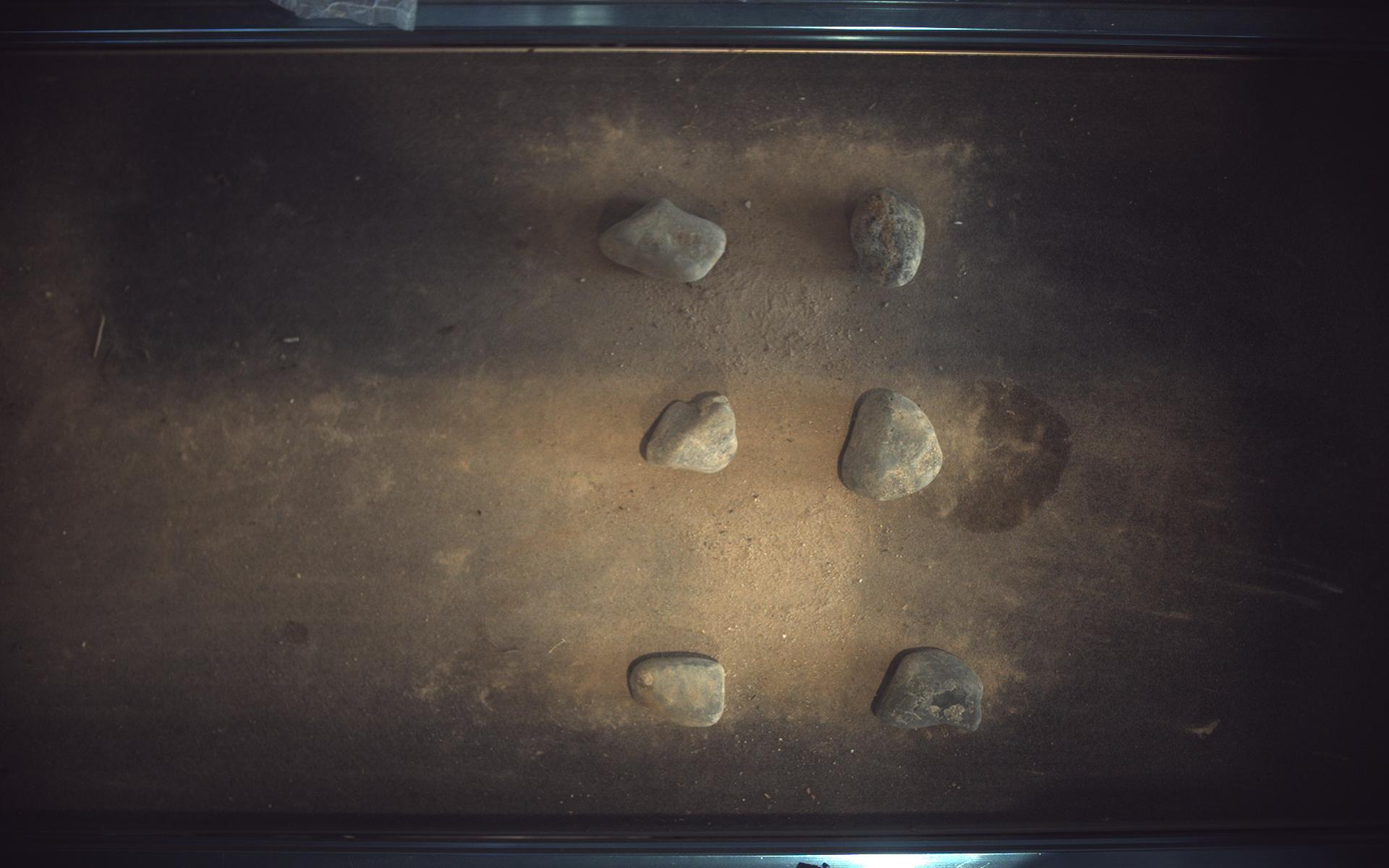stone: (842, 388, 945, 501), (600, 197, 727, 281), (872, 649, 985, 733), (646, 393, 739, 474), (852, 187, 927, 287), (629, 653, 726, 728)
